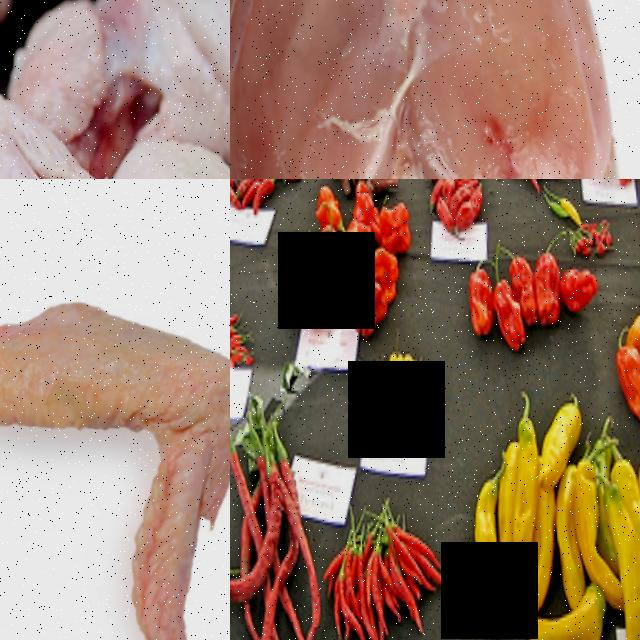chicken breast: (230, 0, 640, 179)
chicken wing: (0, 282, 230, 640)
chilli: (348, 554, 367, 640), (390, 581, 417, 639), (362, 548, 378, 627), (556, 193, 580, 232), (249, 179, 272, 218), (517, 179, 536, 199), (230, 181, 235, 210)
